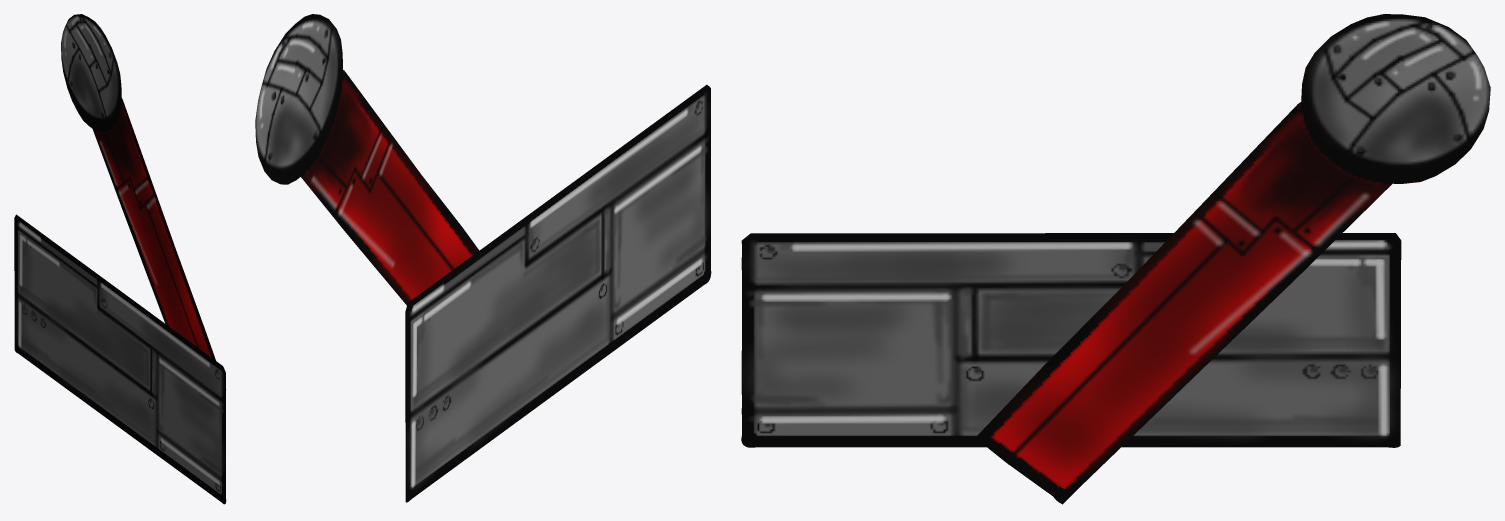
File: Switch.FBX
The picture shows the model from 3 angles, left to right: view 1: azimuth 30°, elevation 25°; view 2: azimuth 150°, elevation 25°; view 3: azimuth 270°, elevation 25°; orthographic projection. The views are drawn at different scales.
Visible parts, largest first — view 1: Plane001, Plane002; view 2: Plane001, Plane002; view 3: Plane001, Plane002.
Part boxes in pixels (x1,y1,x2,y2): Plane001: (14,214,226,504); Plane002: (61,14,226,389); Plane001: (405,85,711,502); Plane002: (255,14,479,305); Plane001: (741,233,1401,447); Plane002: (975,14,1490,504).
Bounding box in the file's own units: 16.08 × 64.91 × 89.22.
Materials: 2 (2 with a texture image).
